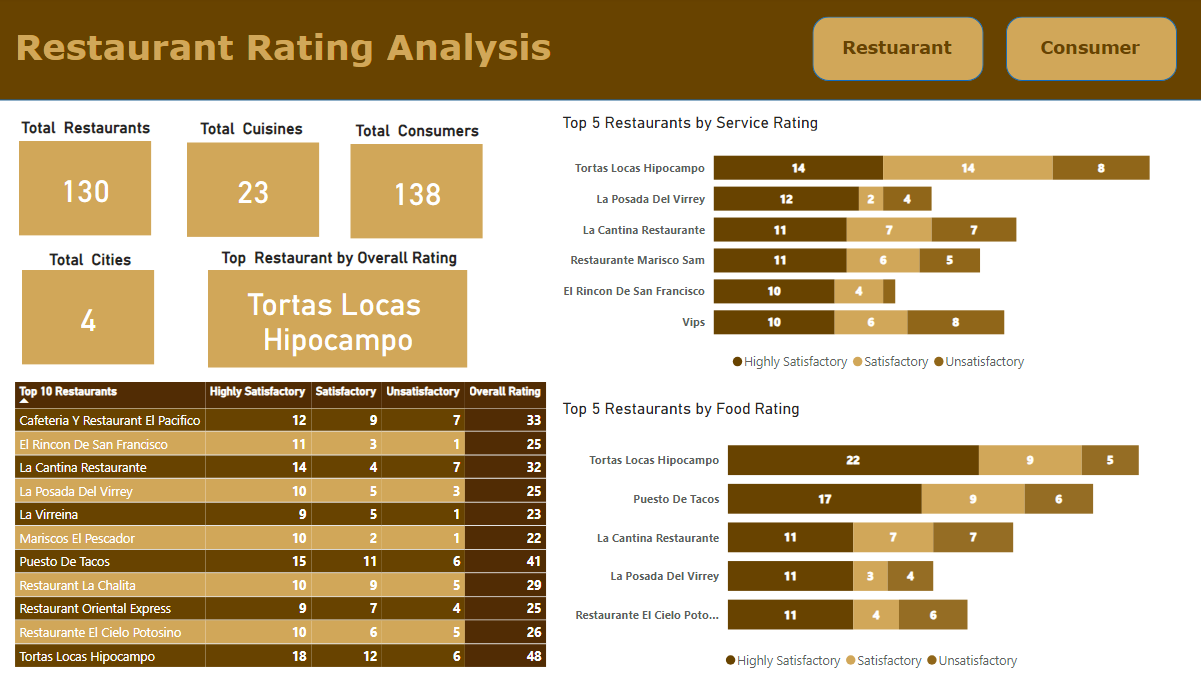

This screenshot's page, from the dashboard's own definition file:
{"tool":"powerbi","page":{"name":"Dashboard","canvas":[1280,720],"ordinal":0},"visuals":[{"type":"shape","box":[867,20,181.2,68.3],"z":0,"group":"g6"},{"type":"shape","box":[1071.3,20.7,181.2,68.3],"z":0,"group":"g7"},{"type":"card","fields":{"Values":["Count(restaurants.Restaurant_ID)"]},"box":[25.4,151.5,139.9,100.1],"z":0,"group":"g1"},{"type":"card","fields":{"Values":["Count(restaurant_cuisines.Cuisine)"]},"box":[203.6,153.9,139.9,100.1],"z":0,"group":"g2"},{"type":"card","fields":{"Values":["Count(consumer_preferences.Consumer_ID)"]},"box":[376.7,154.7,139.9,100.1],"z":0,"group":"g4"},{"type":"card","fields":{"Values":["Min(restaurants.Name)"]},"box":[225.4,289.4,275,103.3],"z":0,"group":"g3"},{"type":"card","fields":{"Values":["Count(consumers.City)"]},"box":[28.6,289.8,139.9,100.1],"z":0,"group":"g5"},{"type":"pivotTable","fields":{"Rows":["restaurants.Name"],"Values":["Measure Table (2).hs_oratings","Measure Table (2).s_oratings","Measure Table (2).us_oratings","Sum(ratings.Overall_Rating)"]},"box":[15.9,400.5,583.3,319.5],"z":0},{"type":"shape","box":[0,0,1279.5,109.7],"z":1000},{"type":"textbox","box":[889.5,36,134,33],"z":1000,"group":"g6"},{"type":"textbox","box":[1099,36.6,124,33],"z":1000,"group":"g7"},{"type":"textbox","box":[11,122,170.1,39.7],"z":1000,"group":"g1"},{"type":"textbox","box":[166,124,213,54],"z":1000,"group":"g2"},{"type":"textbox","box":[363,125,170.1,44],"z":1000,"group":"g4"},{"type":"textbox","box":[220.9,260.7,287.7,44.5],"z":1000,"group":"g3"},{"type":"textbox","box":[15.9,262.3,170.1,39.7],"z":1000,"group":"g5"},{"type":"barChart","title":"Top 5 Restaurants by Food Rating","fields":{"Category":["restaurants.Name"],"Y":["Measure Table (2).hs_fratings","Measure Table (2).s_fratings","Measure Table (2).uns_fratings"]},"box":[595.4,425.3,669,295.7],"z":2000},{"type":"barChart","title":"Top 5 Restaurants by Service Rating","fields":{"Category":["restaurants.Name"],"Y":["Measure Table (2).hs_sratings","Measure Table (2).s_sratings","Measure Table (2).us_sratings"]},"box":[596,122.4,683.4,282.9],"z":3000},{"type":"group","id":"g1","title":"Total res","box":[11,122,170.1,129.7],"z":4000},{"type":"group","id":"g2","title":"cuisines","box":[166,124,213,130.1],"z":5000},{"type":"group","id":"g3","title":"Top res by or","box":[220.9,260.7,287.7,131.9],"z":6000},{"type":"group","id":"g4","title":"Consumers","box":[363,125,170.1,129.8],"z":7000},{"type":"group","id":"g5","title":"Cities","box":[15.9,262.3,170.1,127.2],"z":8000},{"type":"textbox","box":[15.9,23.8,666,65.2],"z":9000},{"type":"group","id":"g6","title":"RestButton","box":[867,20,181.2,68.3],"z":10000},{"type":"group","id":"g7","title":"ConsButton","box":[1071.3,20.7,181.2,68.3],"z":11000}]}

Visuals, with their boxes in screenshot pixels (x1, y1, x2, y2), scaled from the page's 1280x720 canvas onto the 1201x674 screenshot:
shape: {"left": 813, "top": 19, "right": 984, "bottom": 83}
shape: {"left": 1005, "top": 19, "right": 1175, "bottom": 83}
card - Count(restaurants.Restaurant_ID): {"left": 24, "top": 142, "right": 155, "bottom": 236}
card - Count(restaurant_cuisines.Cuisine): {"left": 191, "top": 144, "right": 322, "bottom": 238}
card - Count(consumer_preferences.Consumer_ID): {"left": 353, "top": 145, "right": 485, "bottom": 239}
card - Min(restaurants.Name): {"left": 211, "top": 271, "right": 470, "bottom": 368}
card - Count(consumers.City): {"left": 27, "top": 271, "right": 158, "bottom": 365}
pivotTable - restaurants.Name x Measure Table (2).hs_oratings: {"left": 15, "top": 375, "right": 562, "bottom": 673}
shape: {"left": 0, "top": 0, "right": 1200, "bottom": 103}
textbox: {"left": 835, "top": 34, "right": 960, "bottom": 65}
textbox: {"left": 1031, "top": 34, "right": 1148, "bottom": 65}
textbox: {"left": 10, "top": 114, "right": 170, "bottom": 151}
textbox: {"left": 156, "top": 116, "right": 356, "bottom": 167}
textbox: {"left": 341, "top": 117, "right": 500, "bottom": 158}
textbox: {"left": 207, "top": 244, "right": 477, "bottom": 286}
textbox: {"left": 15, "top": 246, "right": 175, "bottom": 283}
"Top 5 Restaurants by Food Rating" barChart: {"left": 559, "top": 398, "right": 1186, "bottom": 673}
"Top 5 Restaurants by Service Rating" barChart: {"left": 559, "top": 115, "right": 1200, "bottom": 379}
"Total res" group: {"left": 10, "top": 114, "right": 170, "bottom": 236}
"cuisines" group: {"left": 156, "top": 116, "right": 356, "bottom": 238}
"Top res by or" group: {"left": 207, "top": 244, "right": 477, "bottom": 368}
"Consumers" group: {"left": 341, "top": 117, "right": 500, "bottom": 239}
"Cities" group: {"left": 15, "top": 246, "right": 175, "bottom": 365}
textbox: {"left": 15, "top": 22, "right": 640, "bottom": 83}
"RestButton" group: {"left": 813, "top": 19, "right": 984, "bottom": 83}
"ConsButton" group: {"left": 1005, "top": 19, "right": 1175, "bottom": 83}
